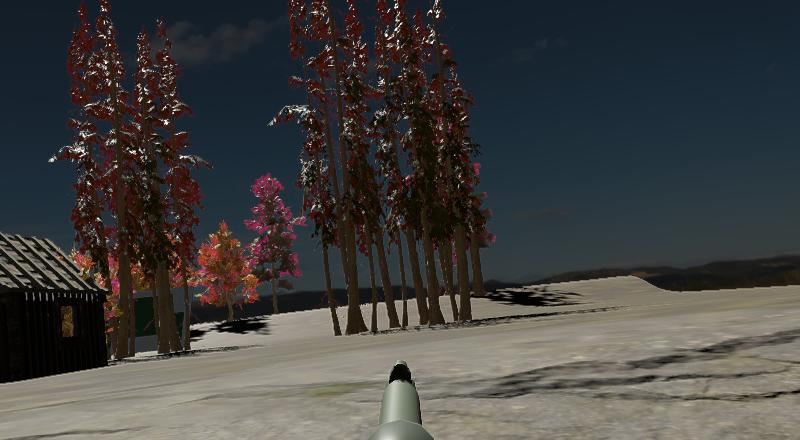House: (0, 224, 113, 384)
